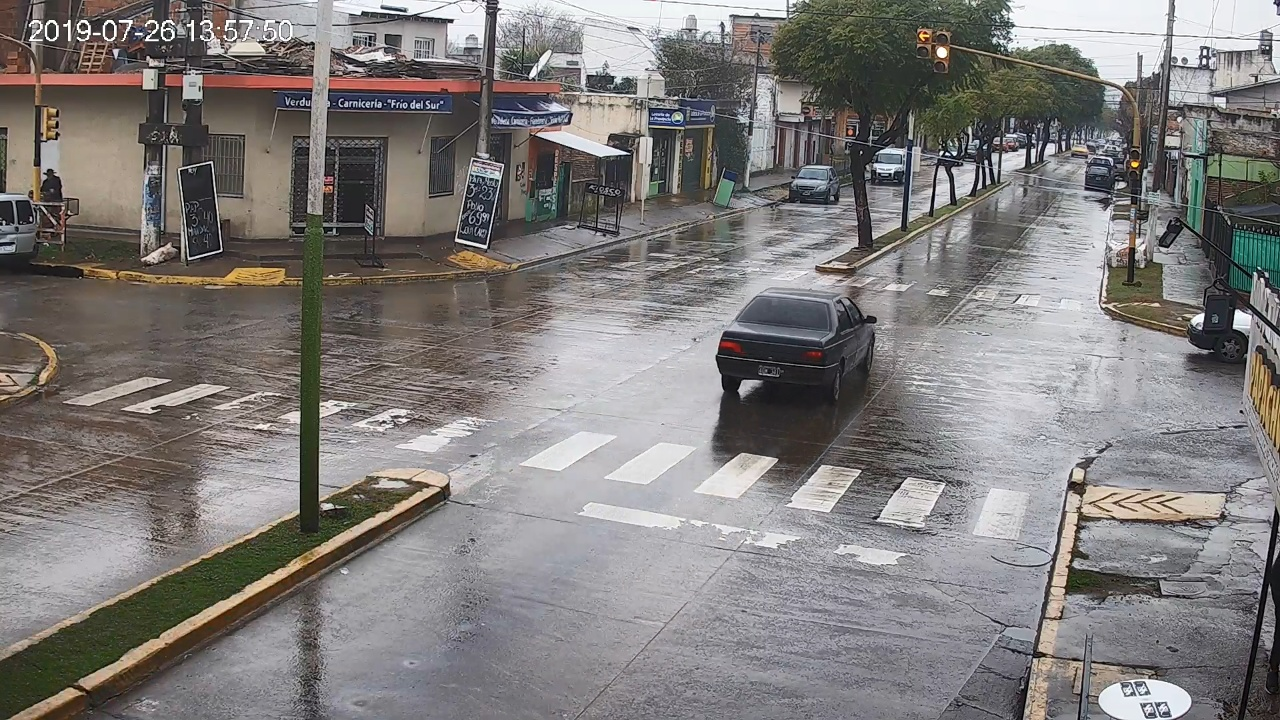car: (715, 287, 877, 401)
traffic light: (934, 30, 948, 74), (1128, 148, 1141, 178)
